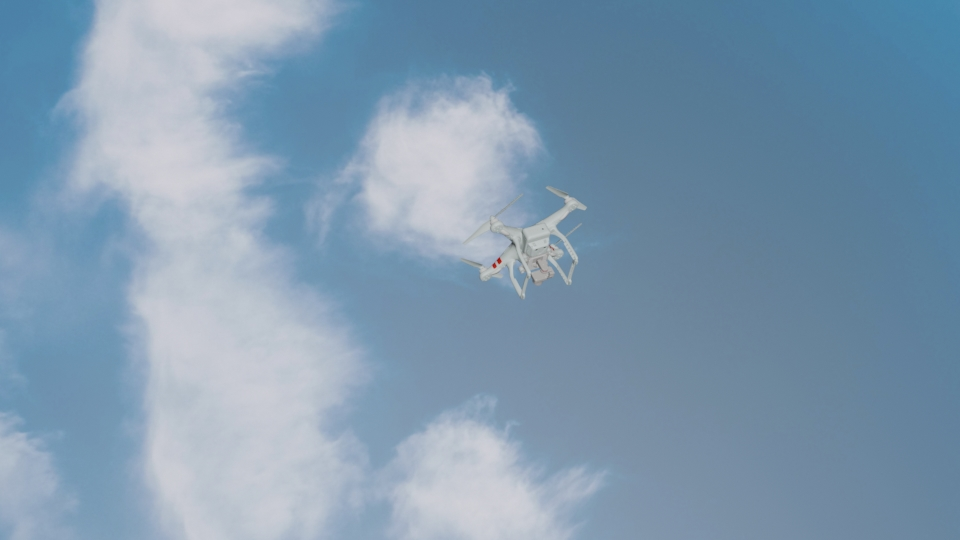drone: (464, 182, 593, 297)
